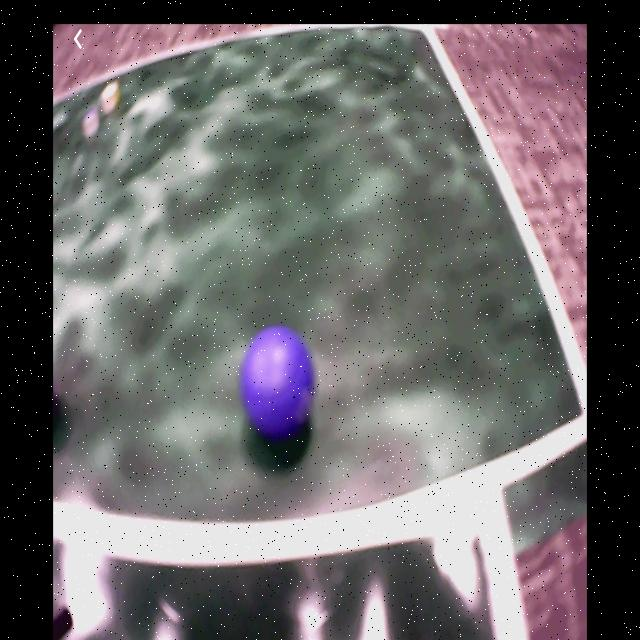ball: (242, 329, 316, 445)
